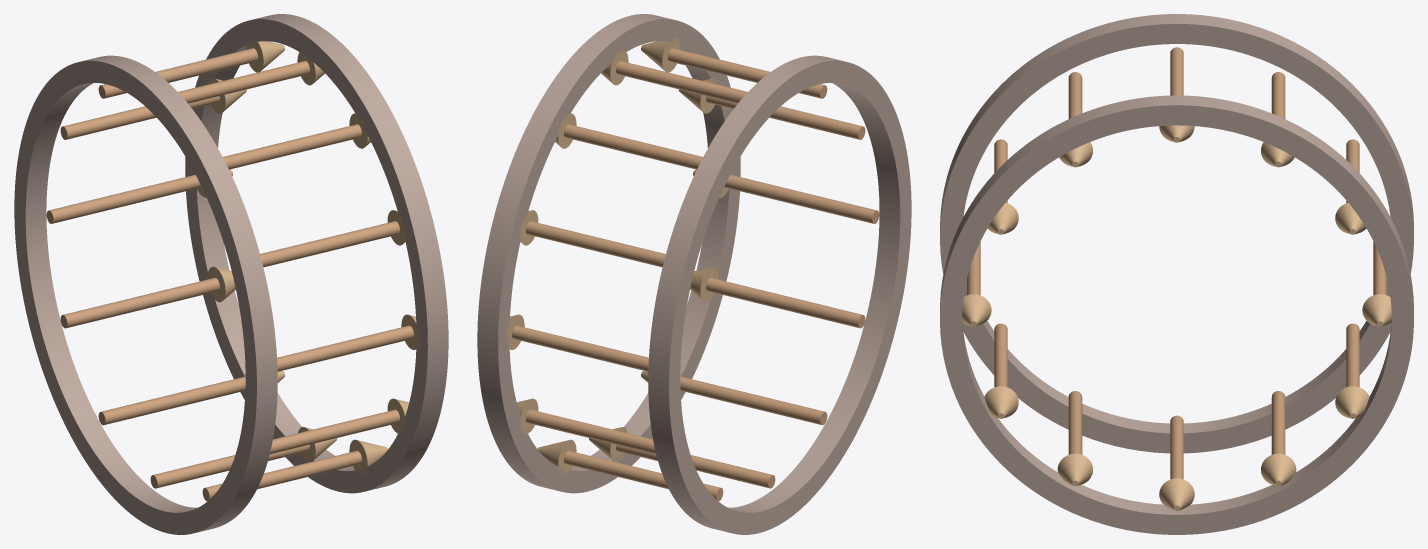
File: afterburner-assembly.glb
3 renders of one model, left to right at view 1: azimuth 30°, elevation 25°; view 2: azimuth 150°, elevation 25°; view 3: azimuth 270°, elevation 25°, orthographic. The views are drawn at different scales.
Parts seen in each view (by area): view 1: afterburner-assembly - heat, afterburner-assembly - fuel, afterburner-assembly - bronze; view 2: afterburner-assembly - heat, afterburner-assembly - fuel, afterburner-assembly - bronze; view 3: afterburner-assembly - heat, afterburner-assembly - bronze, afterburner-assembly - fuel.
Boxes of the visible parts, x1=… form: afterburner-assembly - heat: x1=14, y1=14, x2=448, y2=534; afterburner-assembly - fuel: x1=46, y1=48, x2=413, y2=501; afterburner-assembly - bronze: x1=193, y1=37, x2=419, y2=474; afterburner-assembly - heat: x1=477, y1=14, x2=911, y2=534; afterburner-assembly - fuel: x1=512, y1=48, x2=879, y2=501; afterburner-assembly - bronze: x1=506, y1=37, x2=732, y2=474; afterburner-assembly - heat: x1=940, y1=14, x2=1413, y2=534; afterburner-assembly - bronze: x1=962, y1=125, x2=1391, y2=510; afterburner-assembly - fuel: x1=967, y1=47, x2=1386, y2=479.
Bounding box in the file's own units: 0.865 × 1.82 × 1.82.
